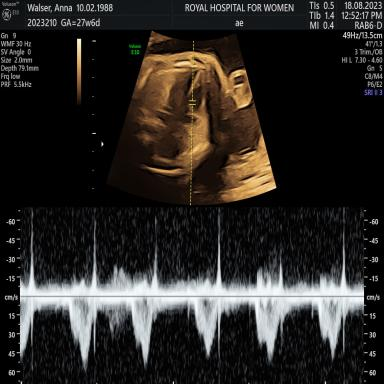Ultrasound-Waves: (25, 208, 359, 384)
